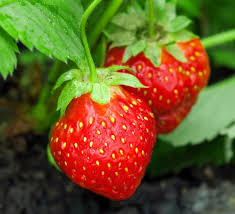ripe: (48, 71, 159, 201), (106, 20, 214, 133)
